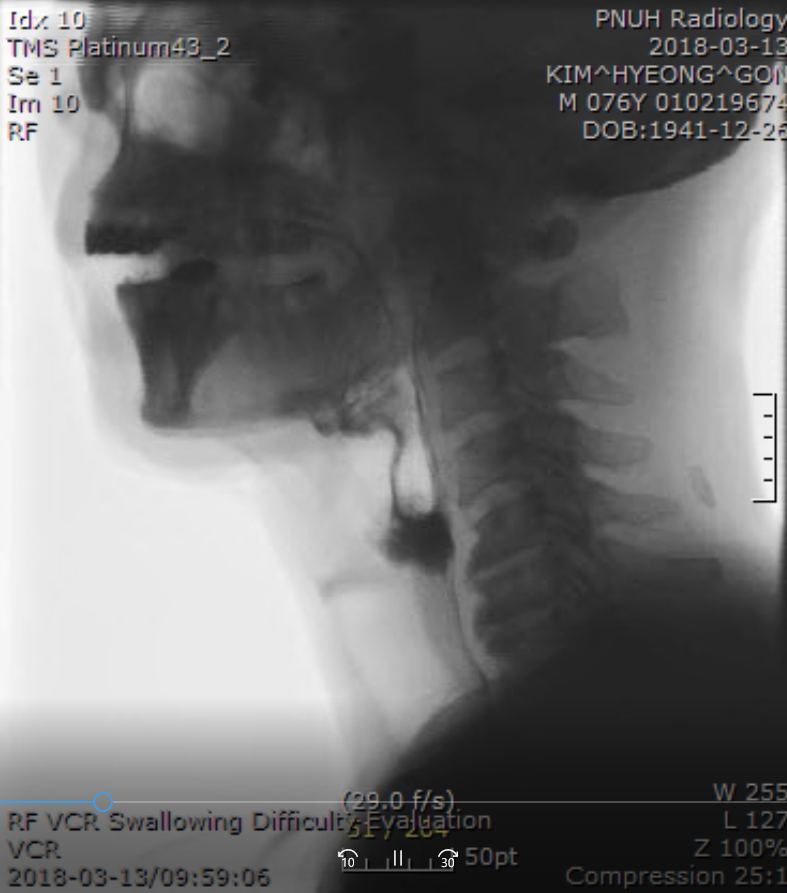dros: (378, 454, 441, 519)
food: (371, 491, 454, 583)
uros: (326, 382, 398, 444)
